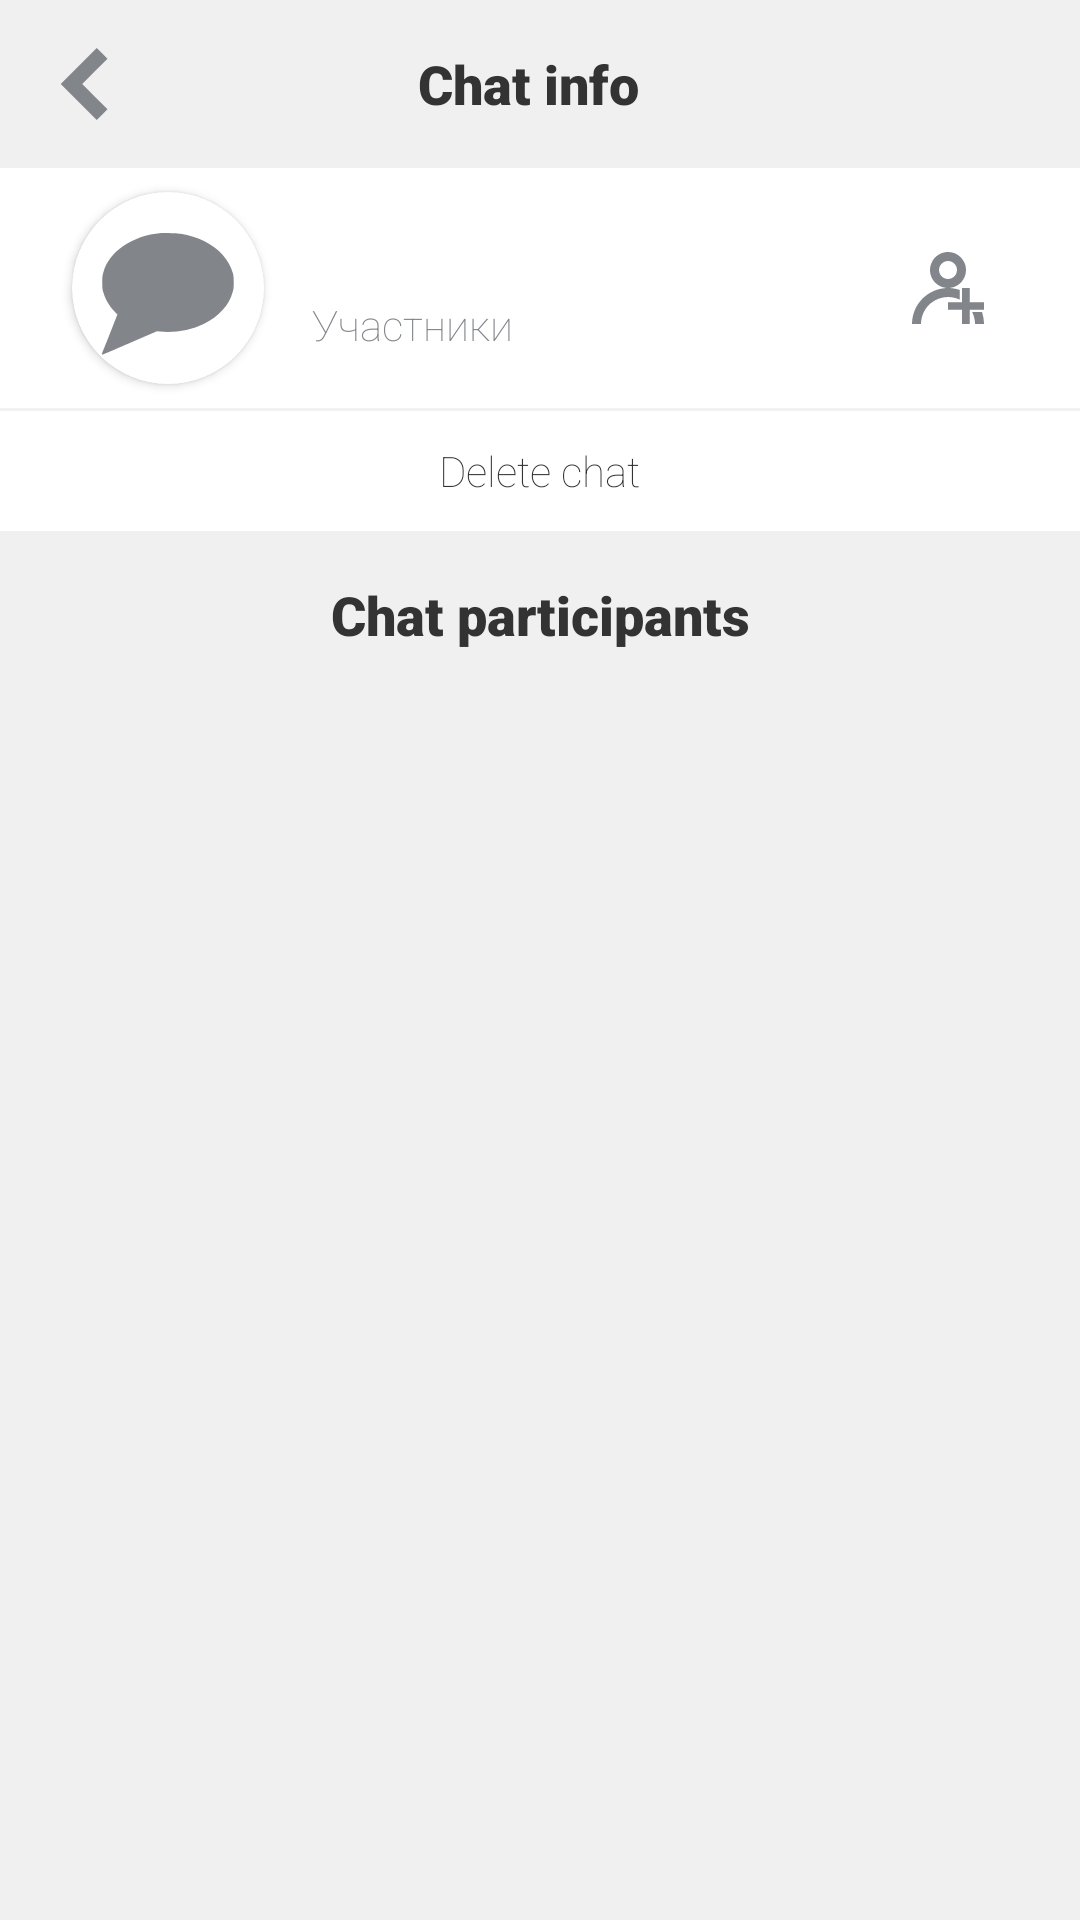

Icon bounding boxes for this 1080×1920 phone screenshot, format bbox=(x1, y1, x2, y2):
contacts add: bbox=(912, 252, 984, 324)
to back: bbox=(61, 48, 107, 120)
